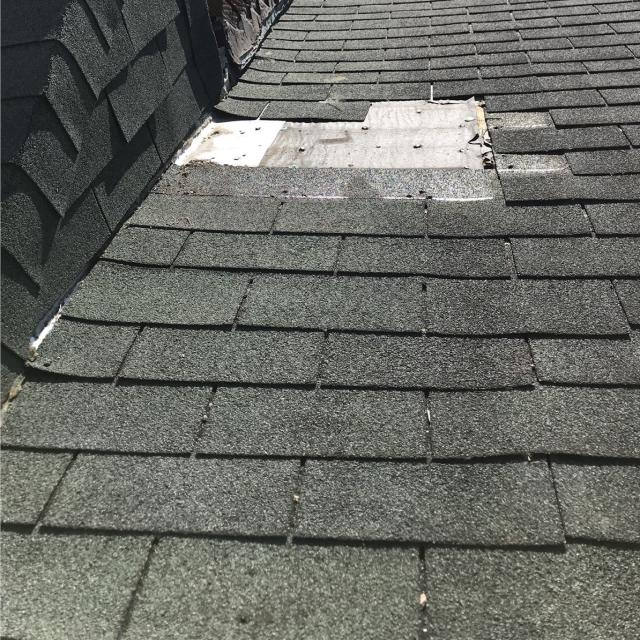damage: (172, 94, 587, 208)
